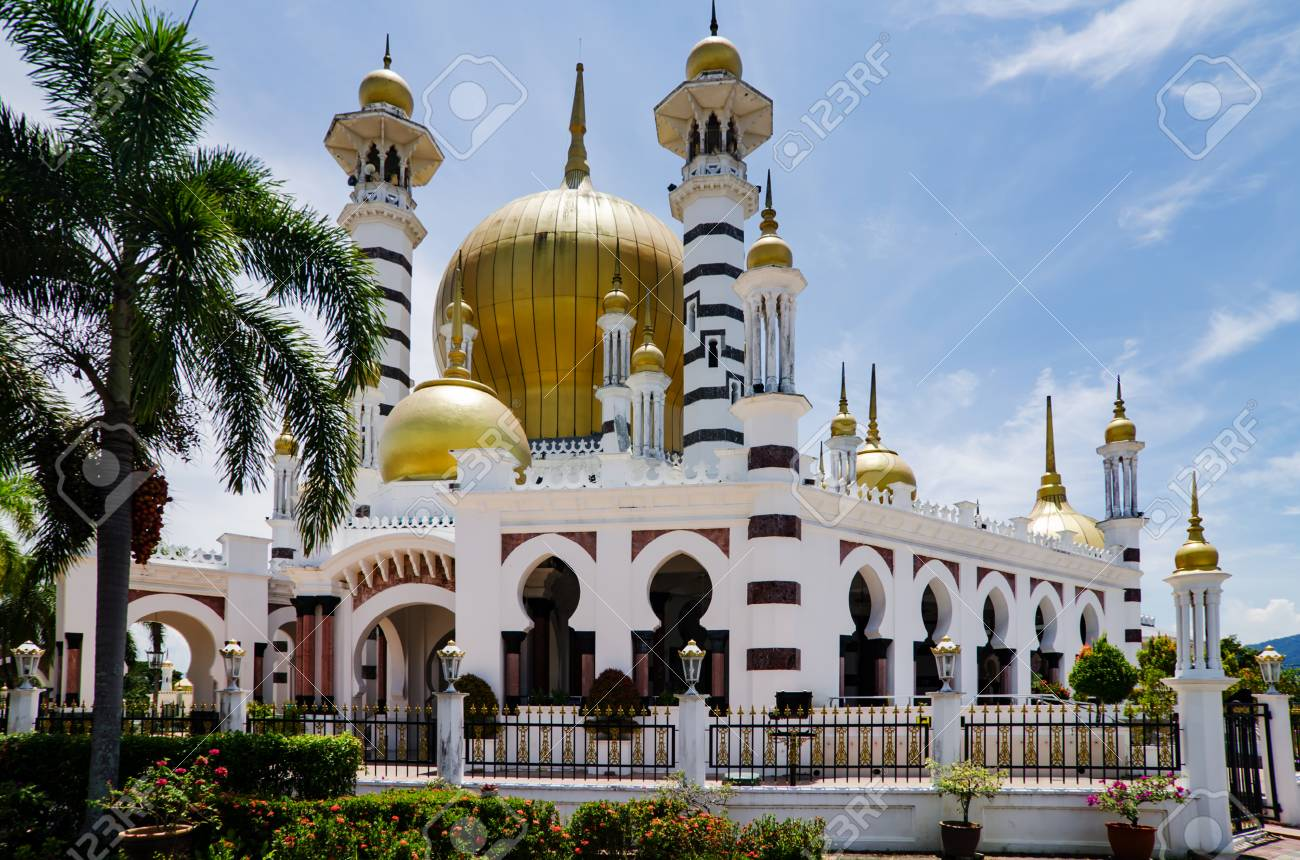Mosque: (209, 22, 1201, 764)
